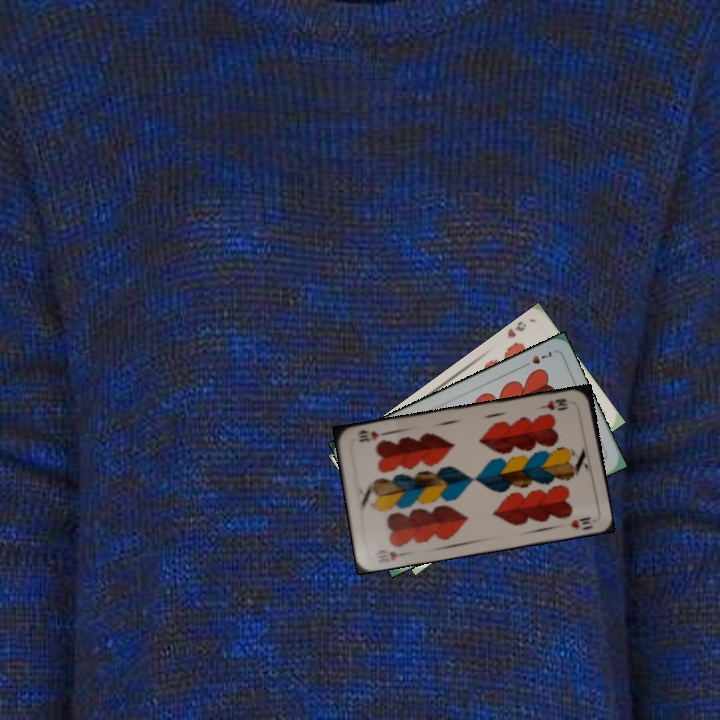H10: (372, 545, 410, 563), (536, 394, 571, 413)
H7: (517, 347, 556, 370)
H9: (503, 319, 529, 340)
